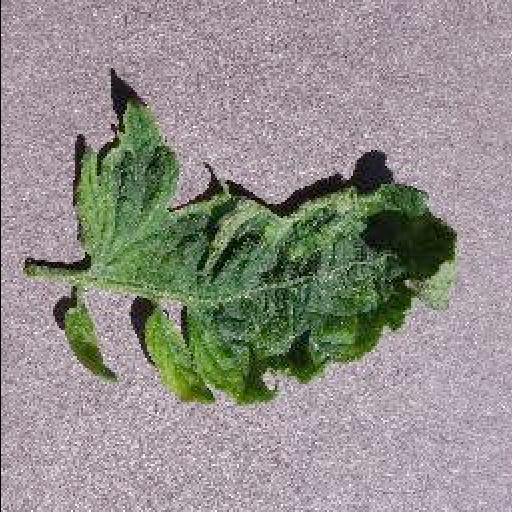Mosaic Virus: (73, 92, 459, 406)
